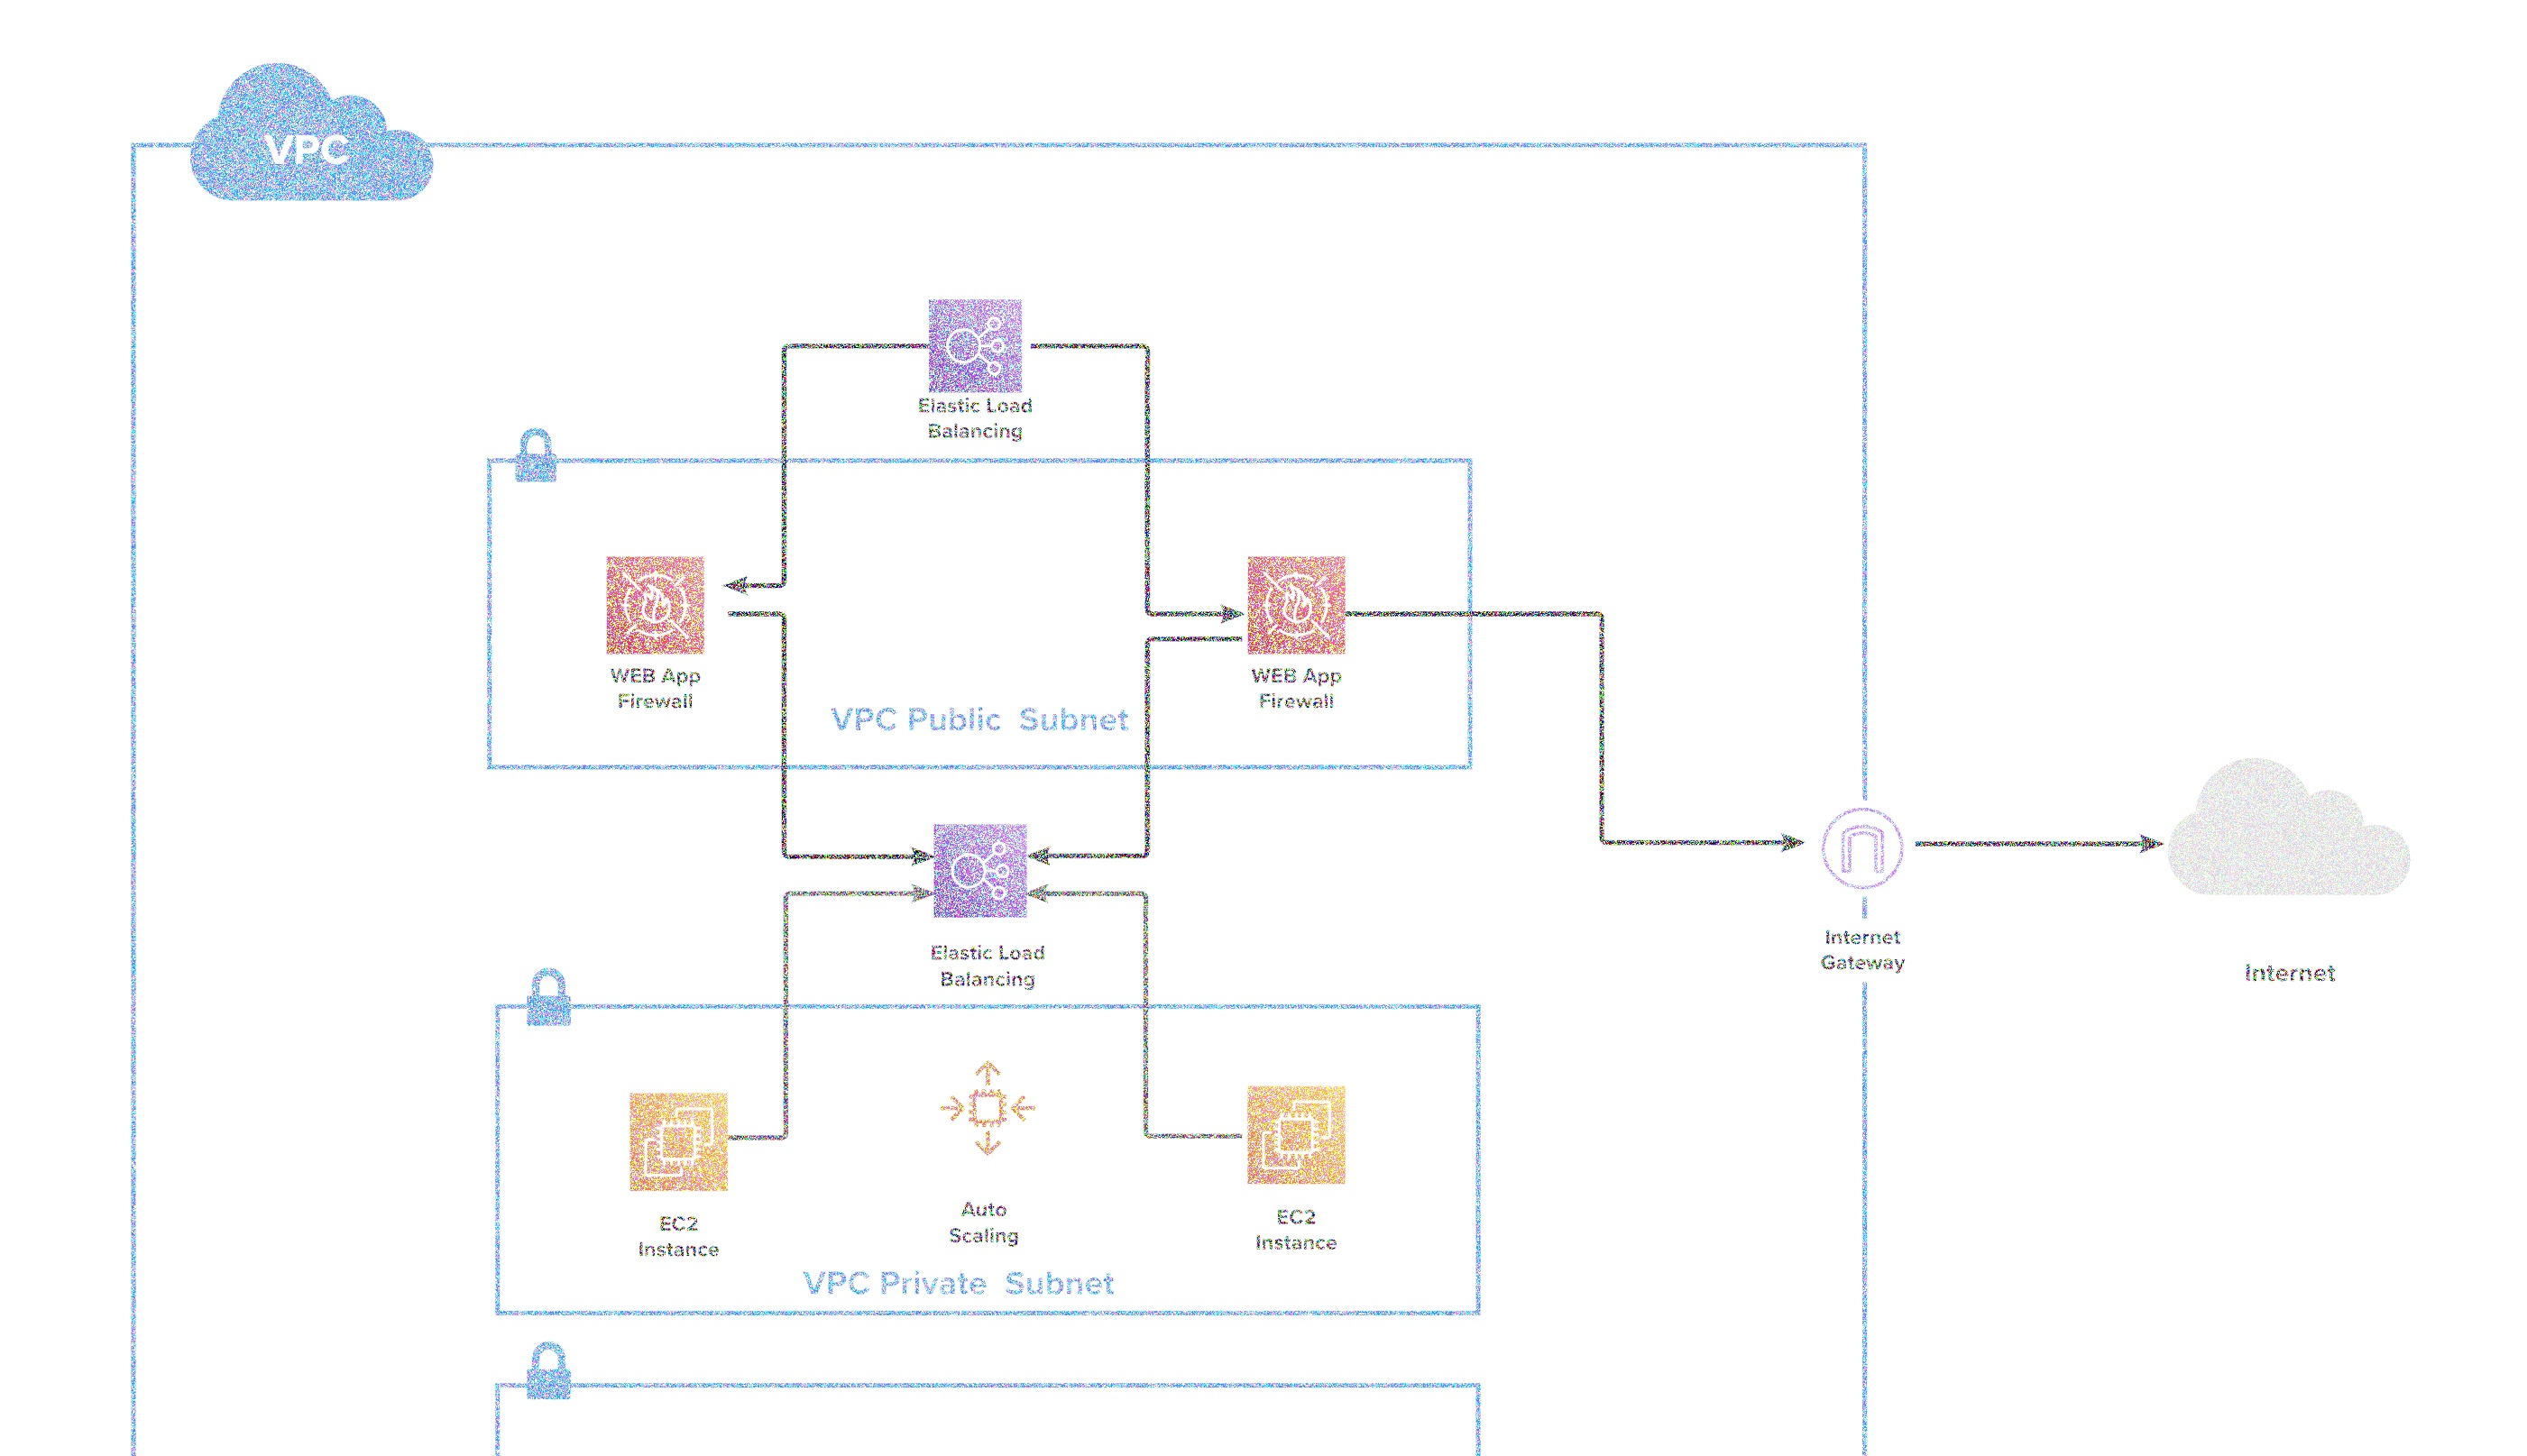Auto Scaling: (932, 1054, 1043, 1161)
EC2: (623, 1088, 732, 1195), (1245, 1079, 1352, 1189)
ELB: (930, 818, 1036, 923), (925, 295, 1025, 397)
Internet: (2158, 728, 2443, 909)
Internet Gateway: (1814, 792, 1918, 905)
Private Subnet: (512, 950, 588, 1044), (501, 418, 583, 491), (515, 1329, 584, 1412)
WAF: (1243, 552, 1352, 661), (602, 552, 709, 659)
